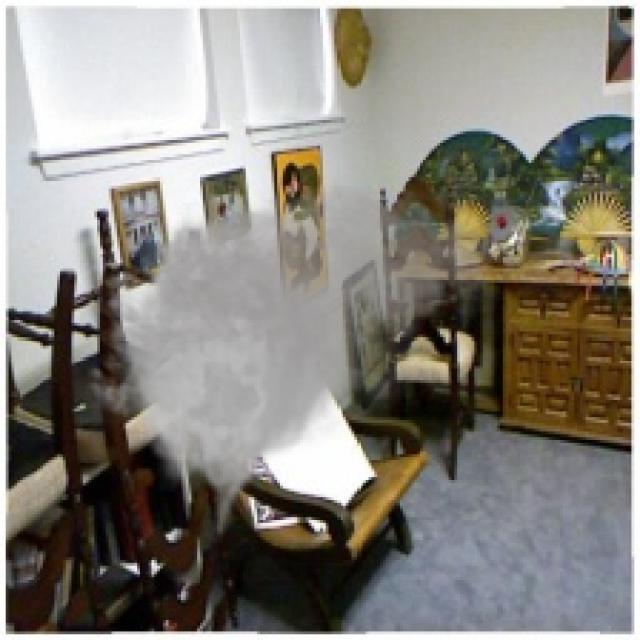smoke: (74, 163, 500, 546)
